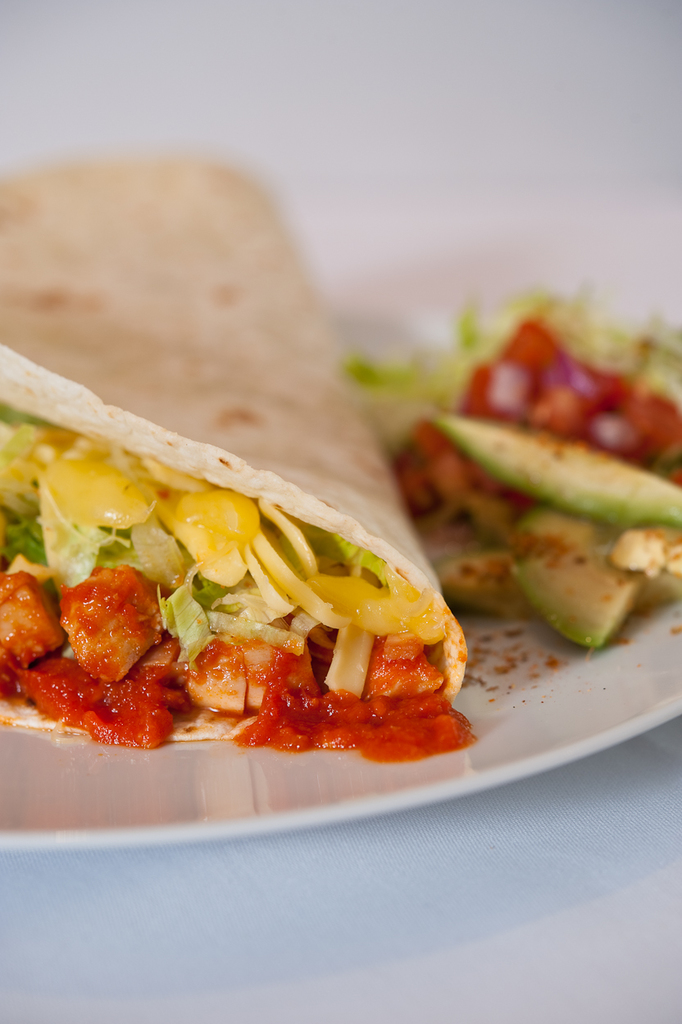taco: (0, 146, 468, 767)
